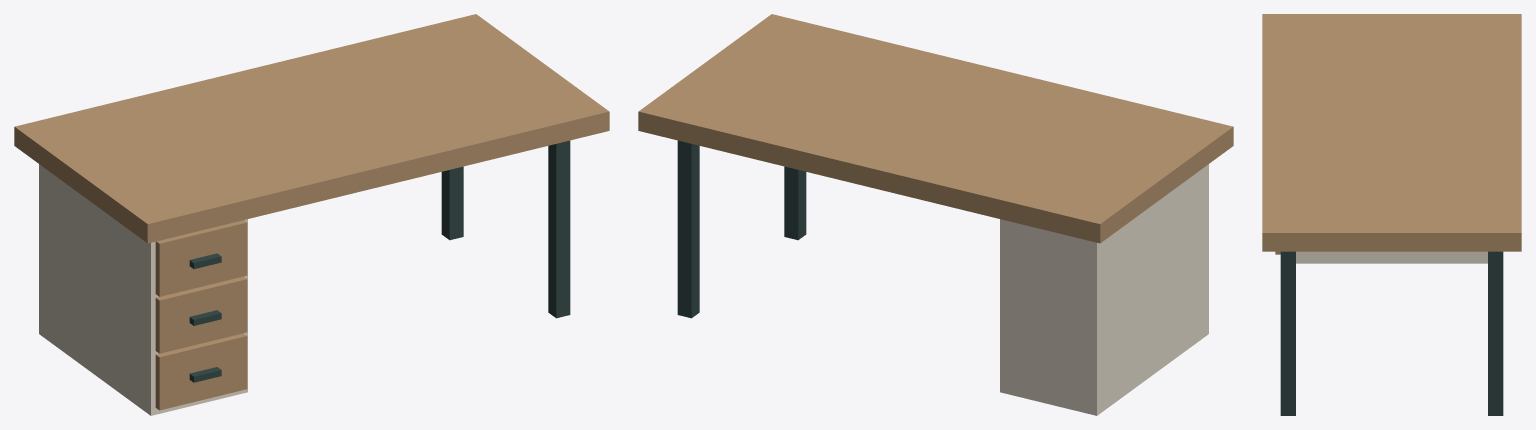
3 views of the same model, side by side, from view 1: azimuth 30°, elevation 25°; view 2: azimuth 150°, elevation 25°; view 3: azimuth 270°, elevation 25° (orthographic). The views are drawn at different scales.
Visible parts, largest first — view 1: desktop, cabinet, drawer0, drawer1, drawer2, leg0.4, leg-0.4; view 2: desktop, cabinet, leg-0.4, leg0.4; view 3: desktop, leg-0.4, leg0.4, cabinet.
Boxes of the visible parts, x1,y1,x2,y2 form: desktop: (14,14,609,243); cabinet: (39,164,247,415); drawer0: (155,333,247,410); drawer1: (155,276,247,353); drawer2: (155,220,247,296); leg0.4: (548,140,570,318); leg-0.4: (441,166,463,240); desktop: (638,14,1233,243); cabinet: (1000,164,1208,415); leg-0.4: (677,140,699,318); leg0.4: (784,166,806,240); desktop: (1262,14,1521,251); leg-0.4: (1488,251,1503,415); leg0.4: (1280,251,1295,415); cabinet: (1296,251,1487,263).
Bounding box in the file's own units: 2 × 0.84 × 1.
